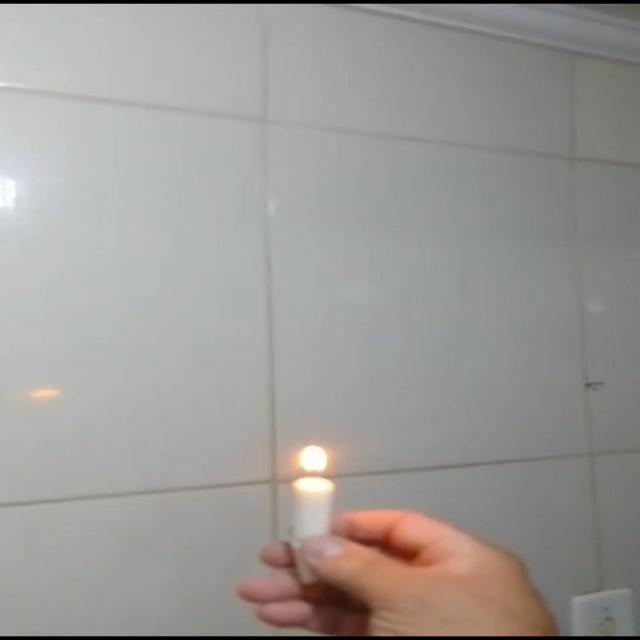fogo-ypXI: (293, 443, 333, 478)
